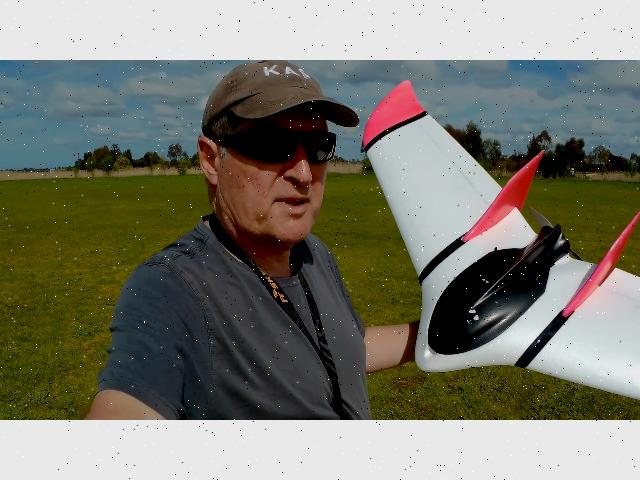Anti-Drone: (356, 61, 634, 418)
